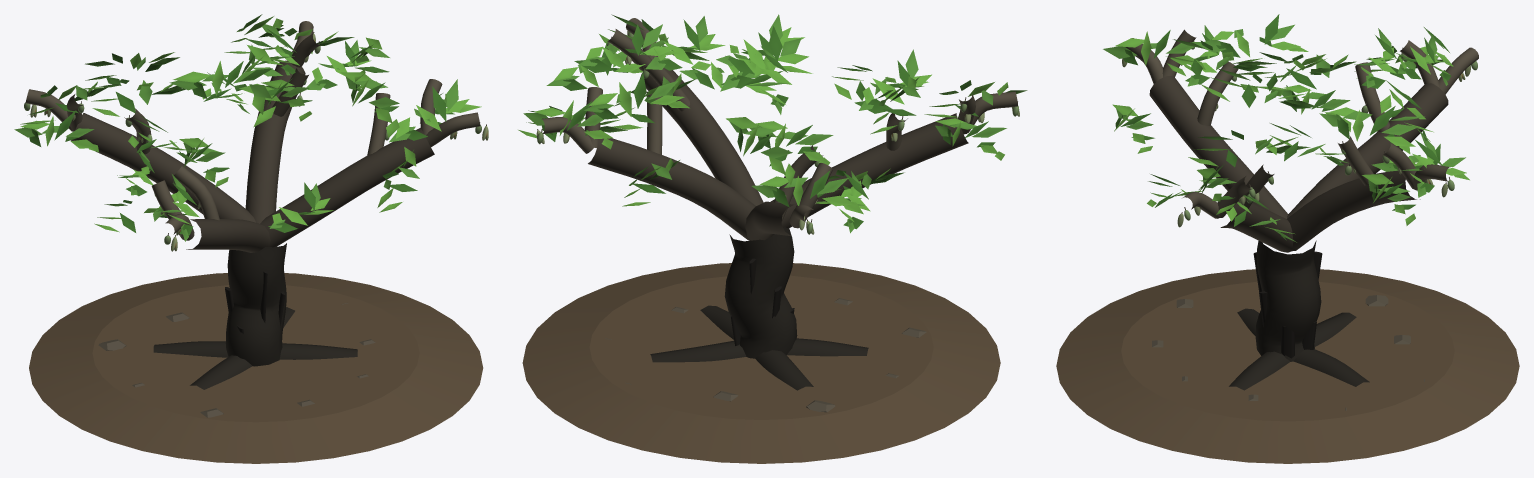
The model's file is arbol-almendro.glb.
3 renders of one model, left to right at view 1: azimuth 30°, elevation 25°; view 2: azimuth 150°, elevation 25°; view 3: azimuth 270°, elevation 25°, orthographic. The views are drawn at different scales.
Parts seen in each view (by area): view 1: PRUNUS_DULCIS_ALMOND_TREE, almond_foliage (×20); view 2: PRUNUS_DULCIS_ALMOND_TREE, almond_foliage (×20); view 3: PRUNUS_DULCIS_ALMOND_TREE, almond_foliage (×20).
Boxes of the visible parts, x1,y1,x2,y2 form: PRUNUS_DULCIS_ALMOND_TREE: (25, 21, 483, 463); almond_foliage (×20): (14, 14, 481, 241); PRUNUS_DULCIS_ALMOND_TREE: (522, 18, 1017, 463); almond_foliage (×20): (523, 14, 1027, 233); PRUNUS_DULCIS_ALMOND_TREE: (1056, 29, 1519, 463); almond_foliage (×20): (1103, 14, 1469, 242).
Bounding box in the file's own units: 5.04 × 3.93 × 5.
